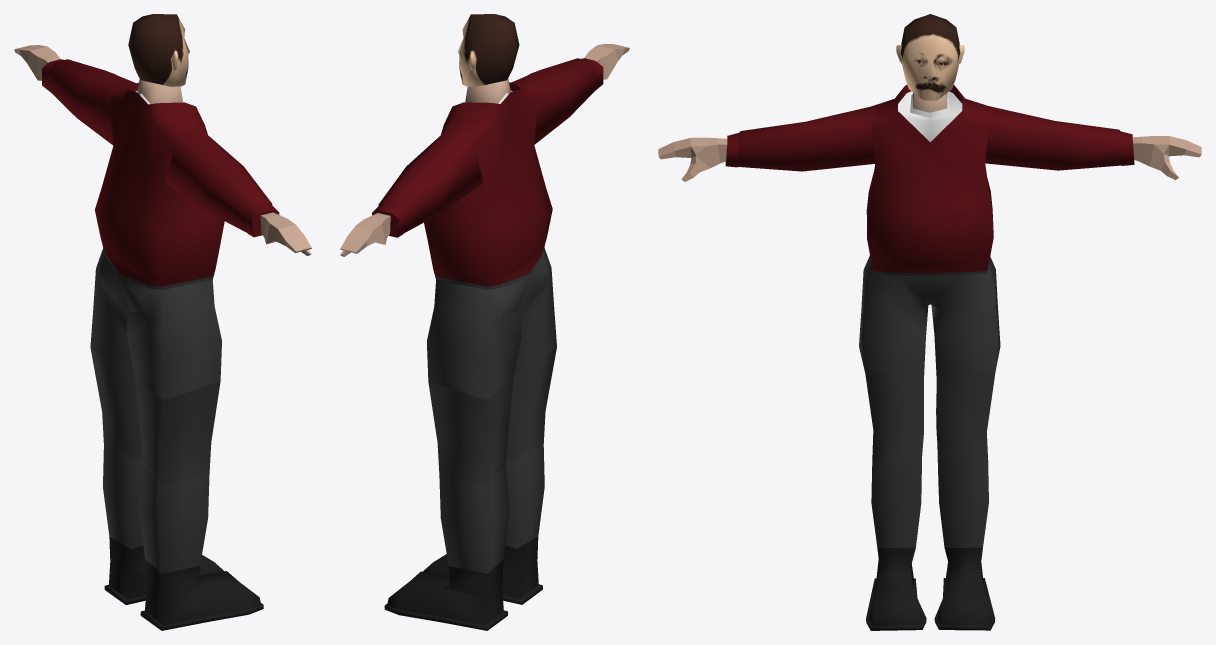
The model's file is Npc3_mod.fbx.
3 renders of one model, left to right at view 1: azimuth 30°, elevation 25°; view 2: azimuth 150°, elevation 25°; view 3: azimuth 270°, elevation 25°, orthographic. The views are drawn at different scales.
Visible parts, largest first — view 1: Telo.008; view 2: Telo.008; view 3: Telo.008.
Part boxes in pixels (x1,y1,x2,y2): Telo.008: (14, 14, 311, 630); Telo.008: (340, 14, 629, 630); Telo.008: (658, 14, 1201, 630).
Size of the model in its own units: 33.9 by 162 by 138.
Materials: 6 (1 with a texture image).
